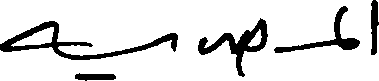ا: (364, 0, 377, 55)
د: (196, 30, 228, 55)
ل: (331, 3, 345, 39)
م: (334, 37, 358, 50)
ه: (0, 19, 57, 55), (237, 16, 267, 77)
ي: (74, 31, 177, 80)
